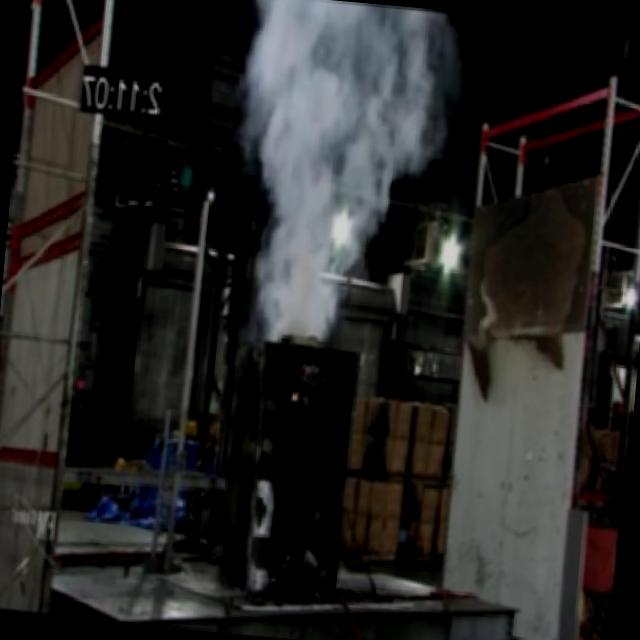smoke: (236, 0, 441, 349)
